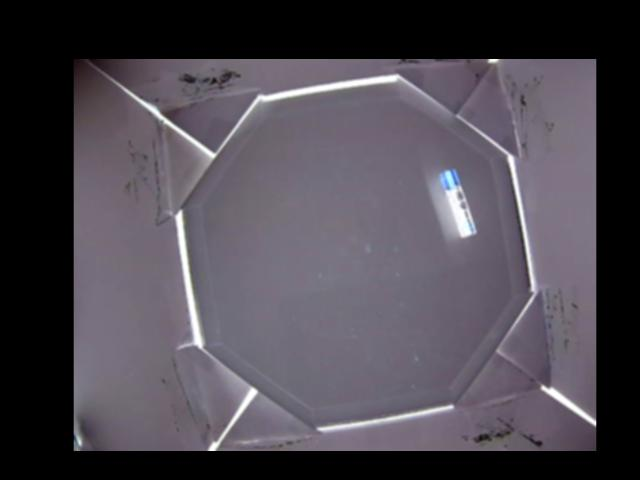Battery: (441, 169, 476, 236)
